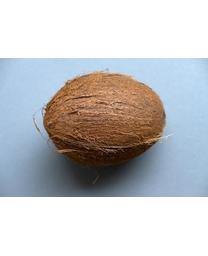coconut: (43, 72, 165, 168)
